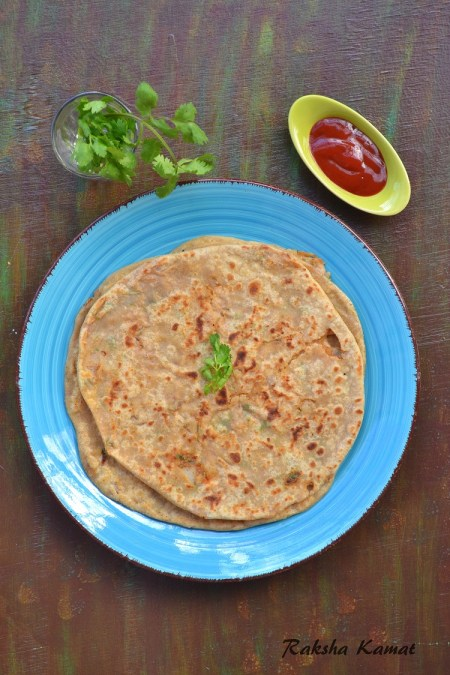aloo_paratha: (66, 239, 372, 544)
